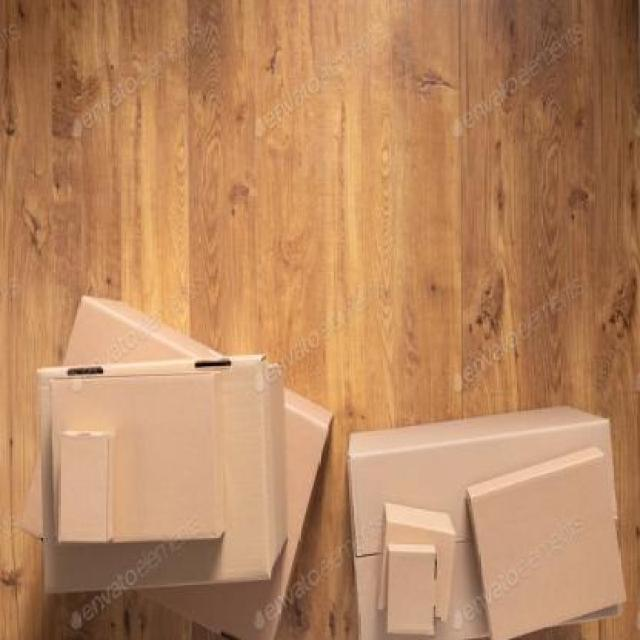box: (19, 280, 338, 640), (33, 350, 304, 621), (343, 397, 631, 640), (42, 369, 243, 555), (464, 439, 630, 640), (369, 496, 463, 640), (53, 420, 124, 554), (382, 538, 444, 640)
